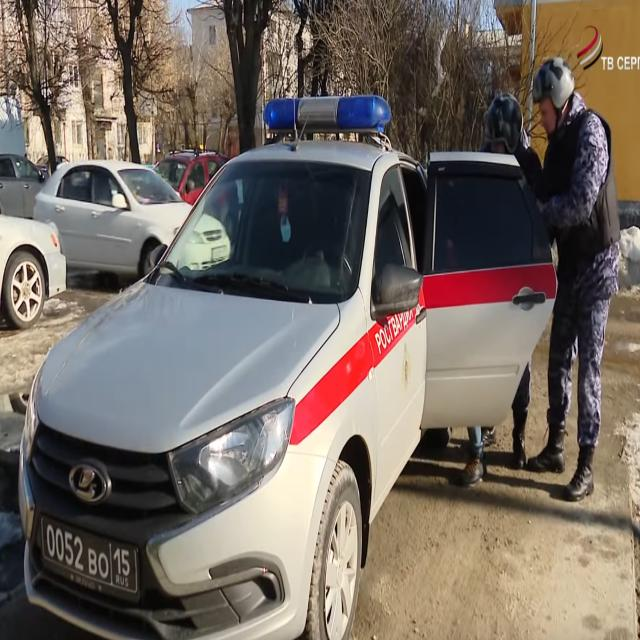non emergency car: (33, 157, 232, 282), (1, 216, 69, 333), (155, 153, 232, 210), (1, 152, 50, 221)
police car: (19, 93, 560, 640)
